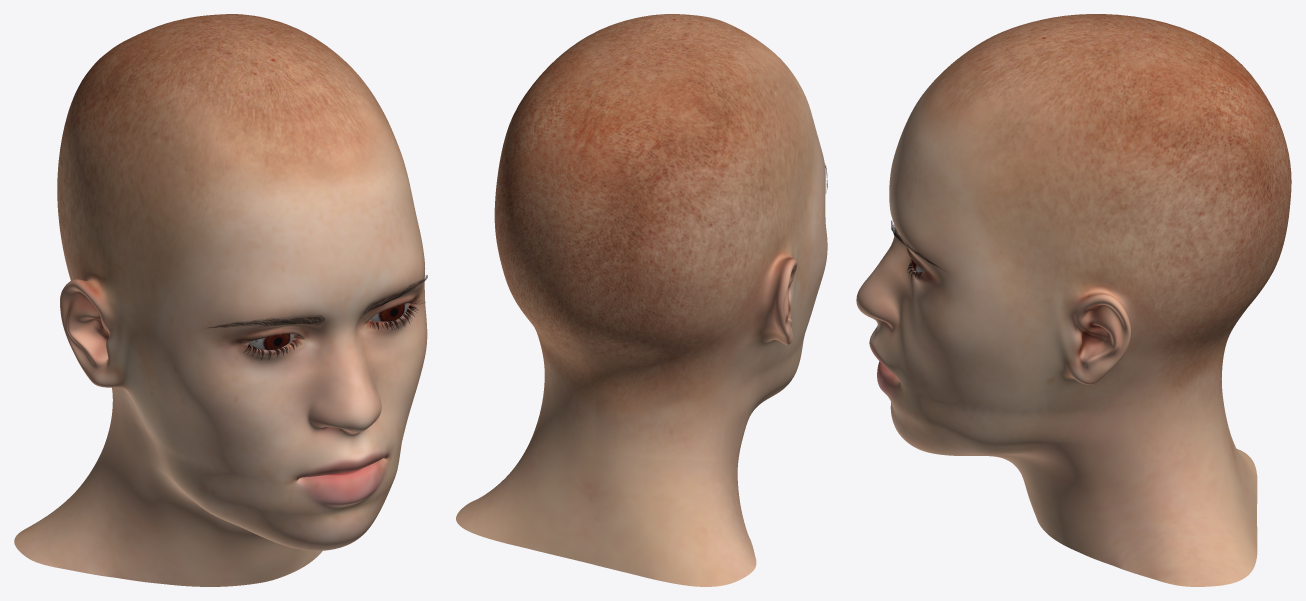
Rendered from head.glb.
The picture shows the model from 3 angles, left to right: view 1: azimuth 30°, elevation 25°; view 2: azimuth 150°, elevation 25°; view 3: azimuth 270°, elevation 25°; orthographic projection. The views are drawn at different scales.
Parts seen in each view (by area): view 1: surface.head, surface.human.eyebrow001, surface.human.low-poly, surface.human.eyelashes01; view 2: surface.head; view 3: surface.head.
Part boxes in pixels (<box>): surface.head: <box>14,14,427,586</box>; surface.human.eyebrow001: <box>208,275,427,327</box>; surface.human.low-poly: <box>248,303,408,349</box>; surface.human.eyelashes01: <box>243,300,423,359</box>; surface.head: <box>456,14,827,586</box>; surface.head: <box>856,14,1291,586</box>.
Size of the model in its own units: 0.1645 by 0.2538 by 0.2064.
Materials: 4 (4 with a texture image).
